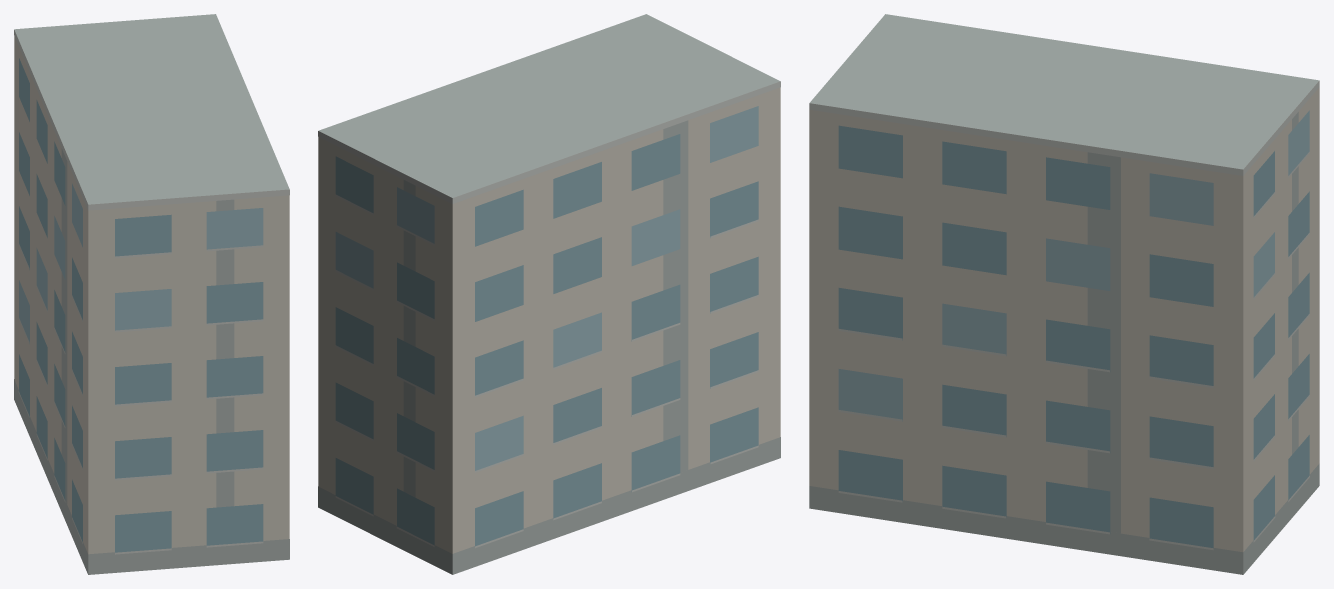
The model's file is residential-97d3cded-5f62-41c0-9bc0-544c1967fc97.glb.
3 views of the same model, side by side, from view 1: azimuth 30°, elevation 25°; view 2: azimuth 150°, elevation 25°; view 3: azimuth 270°, elevation 25° (orthographic). The views are drawn at different scales.
Parts seen in each view (by area): view 1: residential-97d3cded-5f62-41c0-9bc0-544c1967fc97.tmp; view 2: residential-97d3cded-5f62-41c0-9bc0-544c1967fc97.tmp; view 3: residential-97d3cded-5f62-41c0-9bc0-544c1967fc97.tmp.
Boxes of the visible parts, x1,y1,x2,y2 form: residential-97d3cded-5f62-41c0-9bc0-544c1967fc97.tmp: [14, 14, 289, 574]; residential-97d3cded-5f62-41c0-9bc0-544c1967fc97.tmp: [318, 14, 780, 574]; residential-97d3cded-5f62-41c0-9bc0-544c1967fc97.tmp: [809, 14, 1319, 574].
Size of the model in its own units: 12.56 by 15.25 by 17.41.
